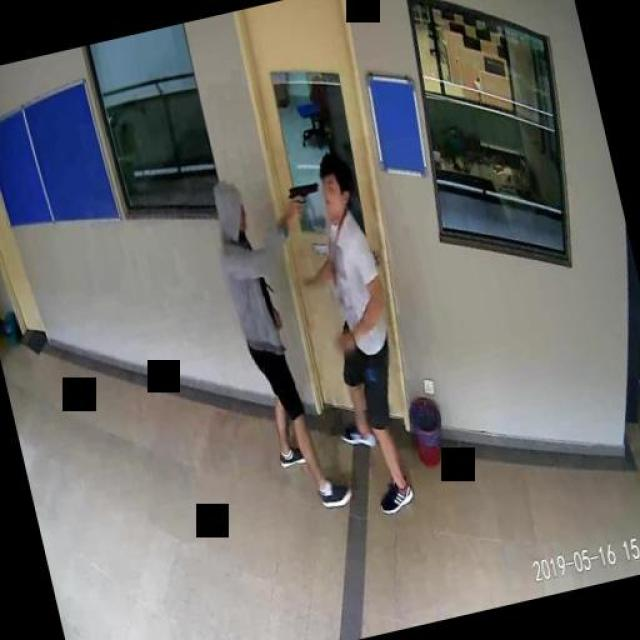gun: (285, 179, 323, 221)
